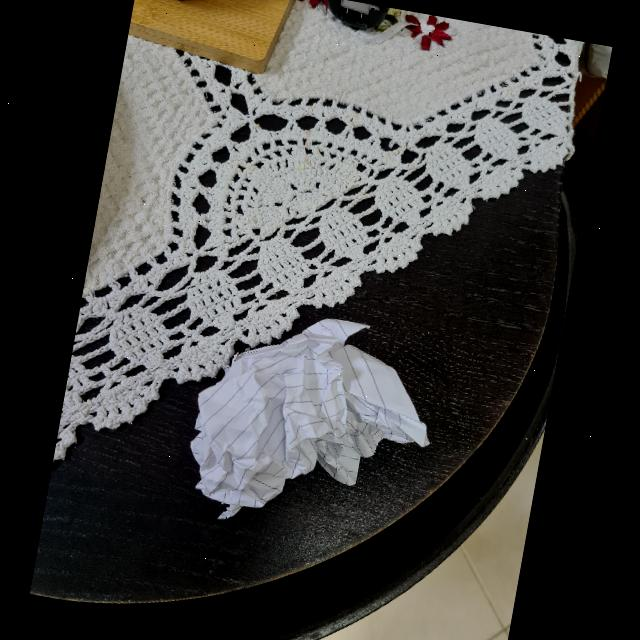trash: (180, 299, 456, 546)
